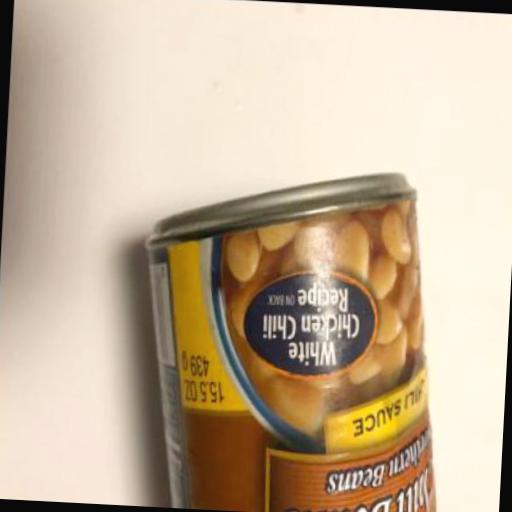metal: (131, 161, 456, 512)
